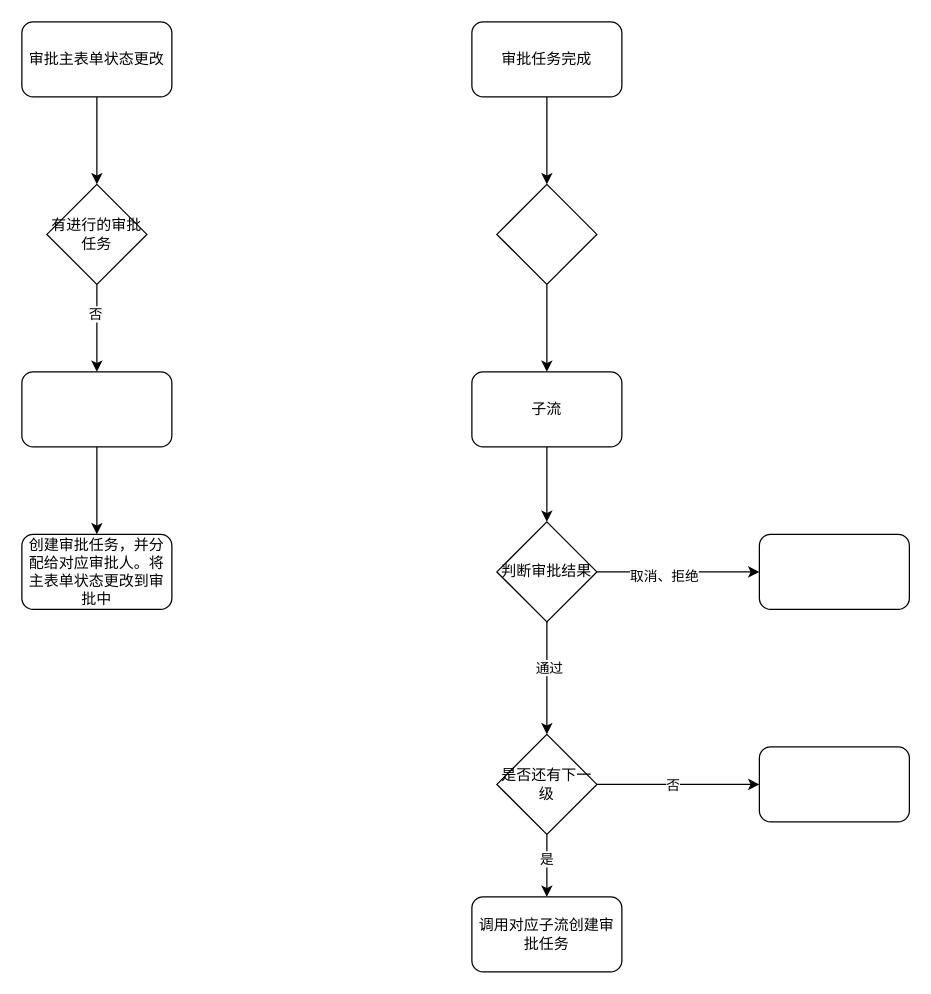
This 931x994 diagram has some shape labels left out. The shapes that lost their labels are listed below. From the top down, each one's centre as x and y in pixels, then its label:
At point (546, 233): "根据审批类型调用子流".
At point (96, 409): "获取审批流程，获取1级审批人".
At point (833, 571): "更改主表单到对应状态".
At point (833, 784): "更改主表单状态为已通过".
